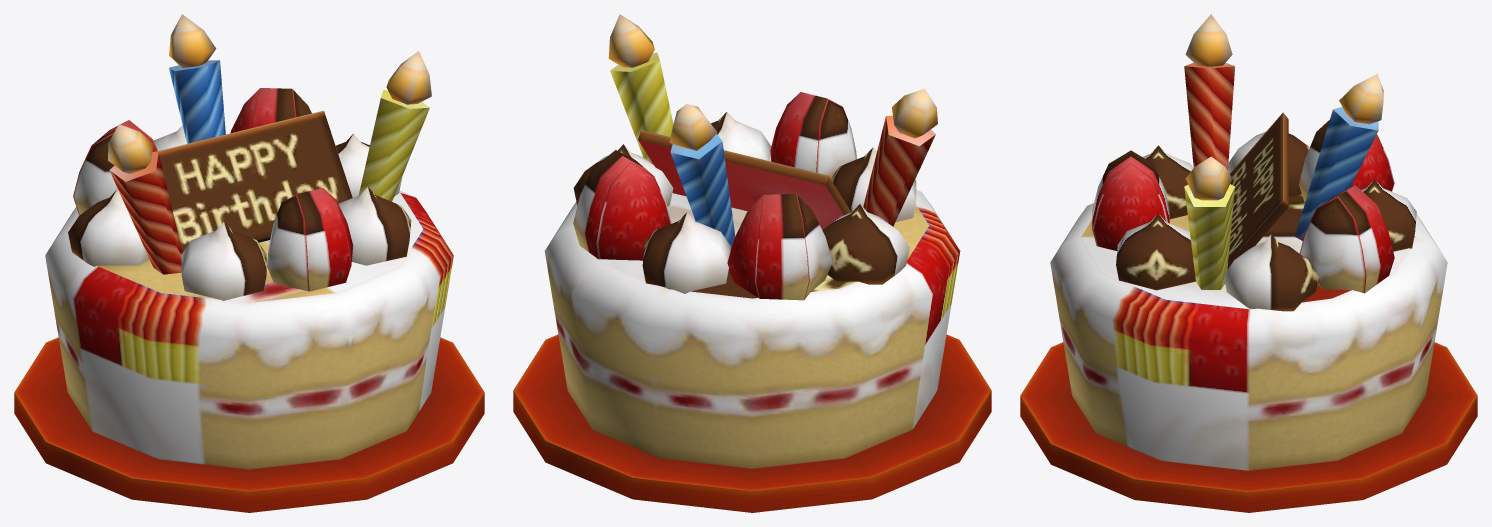
The model's file is F2_Item_Headgear_Party_S.dae.
The picture shows the model from 3 angles, left to right: view 1: azimuth 30°, elevation 25°; view 2: azimuth 150°, elevation 25°; view 3: azimuth 270°, elevation 25°; orthographic projection. The views are drawn at different scales.
Parts seen in each view (by area): view 1: _0_0_node; view 2: _0_0_node; view 3: _0_0_node.
Boxes of the visible parts, <box> form: _0_0_node: <box>14,14,484,512</box>; _0_0_node: <box>513,14,991,512</box>; _0_0_node: <box>1020,14,1477,512</box>.
Bounding box in the file's own units: 1.81 × 1.5 × 1.81.
1 material, 1 textured.
